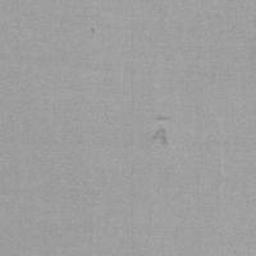Inclusion: (150, 110, 173, 146)
